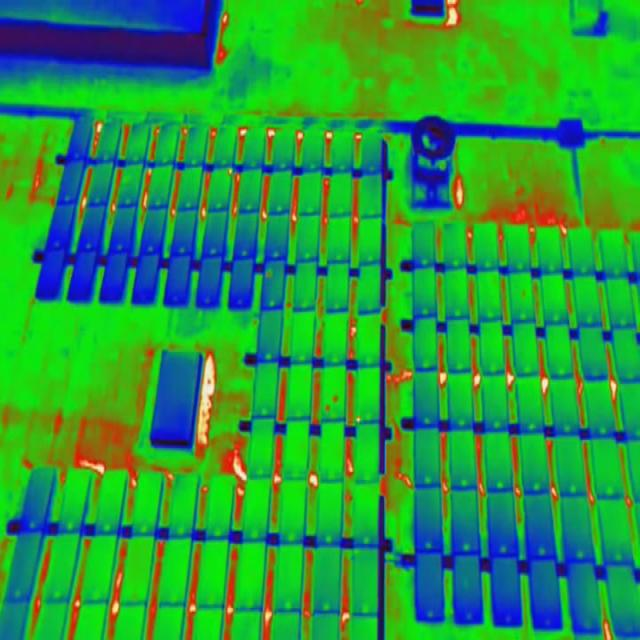Orange-Spots: (332, 394, 339, 403), (324, 404, 330, 414), (266, 270, 272, 278), (227, 168, 233, 175), (356, 417, 361, 422)
